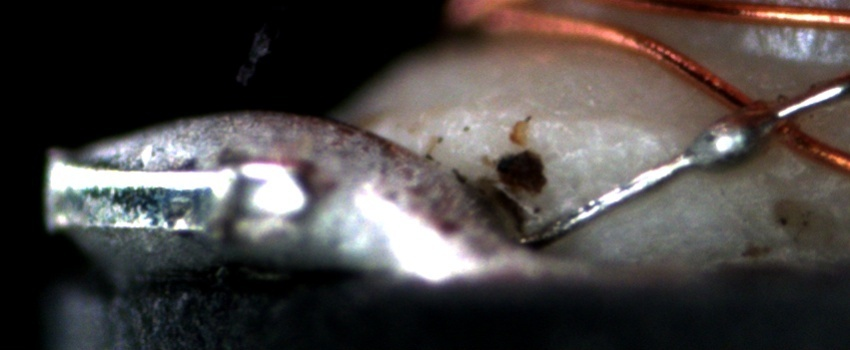CL: (710, 77, 832, 171)
DL: (484, 106, 659, 144)
TB: (678, 103, 777, 181)
TS: (521, 84, 844, 245)
TTCW: (514, 74, 849, 255)
